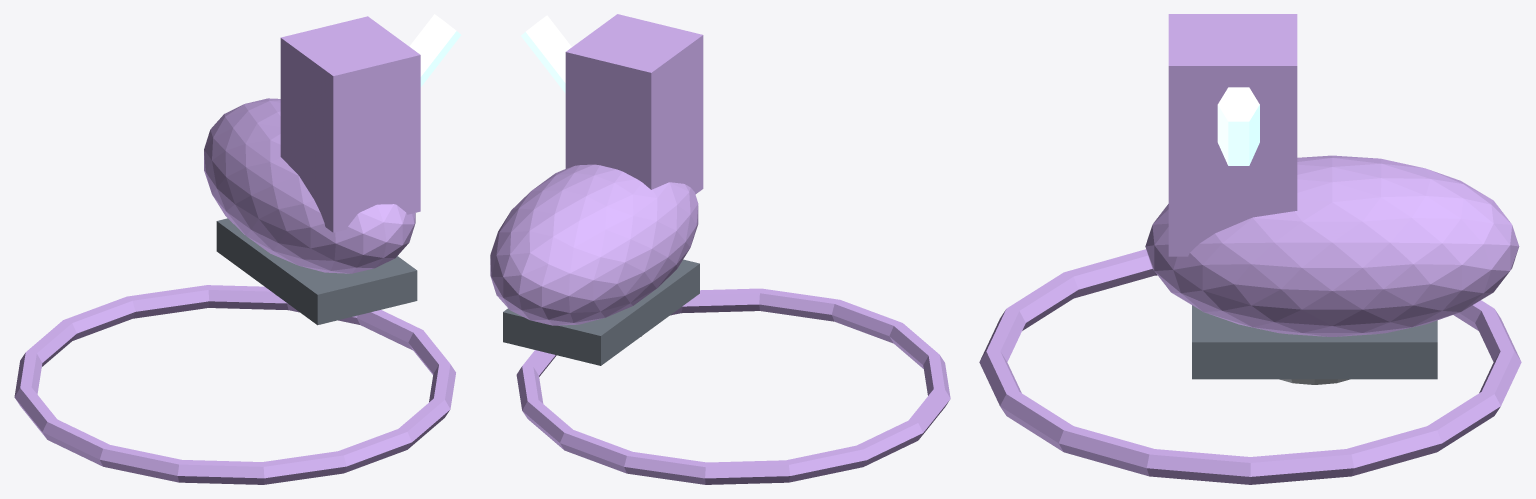
File: botas_ag_2.glb
3 views of the same model, side by side, from view 1: azimuth 30°, elevation 25°; view 2: azimuth 150°, elevation 25°; view 3: azimuth 270°, elevation 25° (orthographic). The views are drawn at different scales.
Parts seen in each view (by area): view 1: caña, halo, puntera, suela, ala; view 2: puntera, caña, halo, suela, ala; view 3: puntera, caña, halo, suela, ala.
Boxes of the visible parts, left/top/right/bottom form: caña: left=280, top=16, right=420, bottom=232; halo: left=14, top=285, right=455, bottom=484; puntera: left=204, top=98, right=415, bottom=273; suela: left=216, top=218, right=417, bottom=325; ala: left=409, top=14, right=461, bottom=87; puntera: left=490, top=164, right=698, bottom=325; caña: left=565, top=14, right=703, bottom=194; halo: left=516, top=288, right=950, bottom=484; suela: left=503, top=259, right=699, bottom=365; ala: left=521, top=15, right=571, bottom=93; puntera: left=1145, top=155, right=1519, bottom=336; caña: left=1168, top=14, right=1297, bottom=256; halo: left=979, top=249, right=1521, bottom=484; suela: left=1192, top=305, right=1437, bottom=379; ala: left=1217, top=87, right=1259, bottom=165.
Size of the model in its own units: 0.9 by 0.6963 by 0.847.
